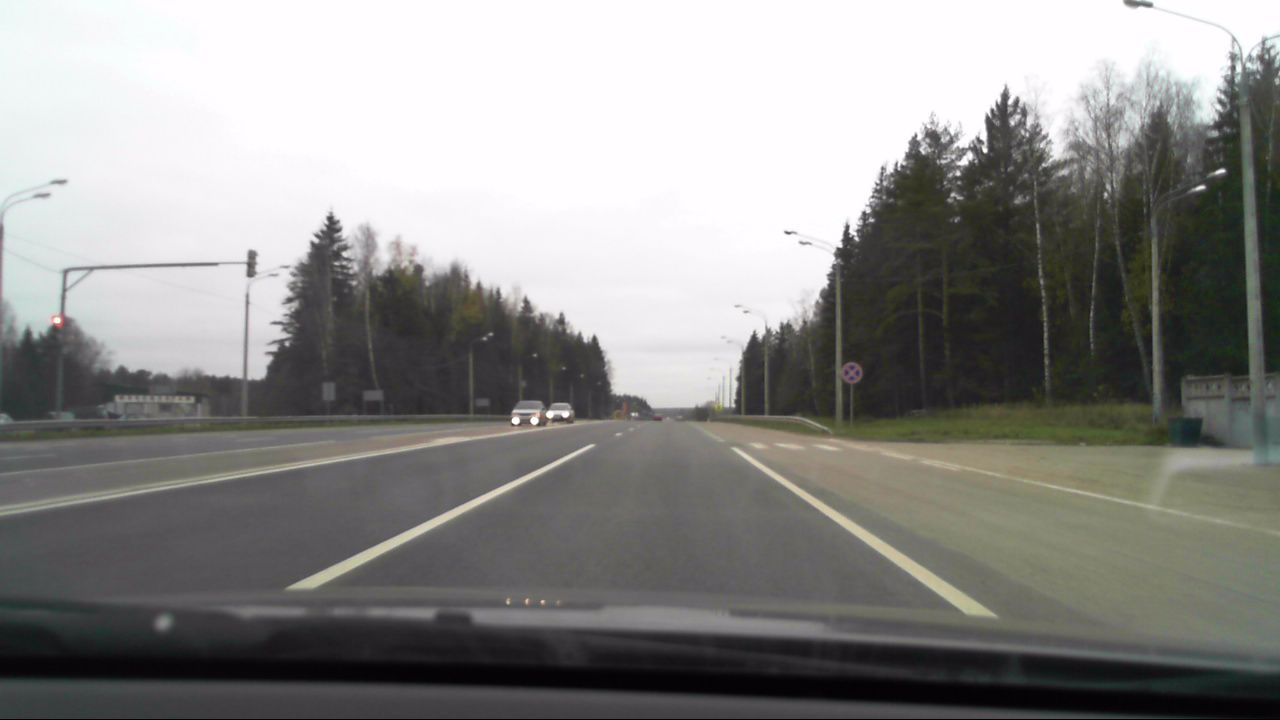No Parking: (839, 362, 861, 386)
